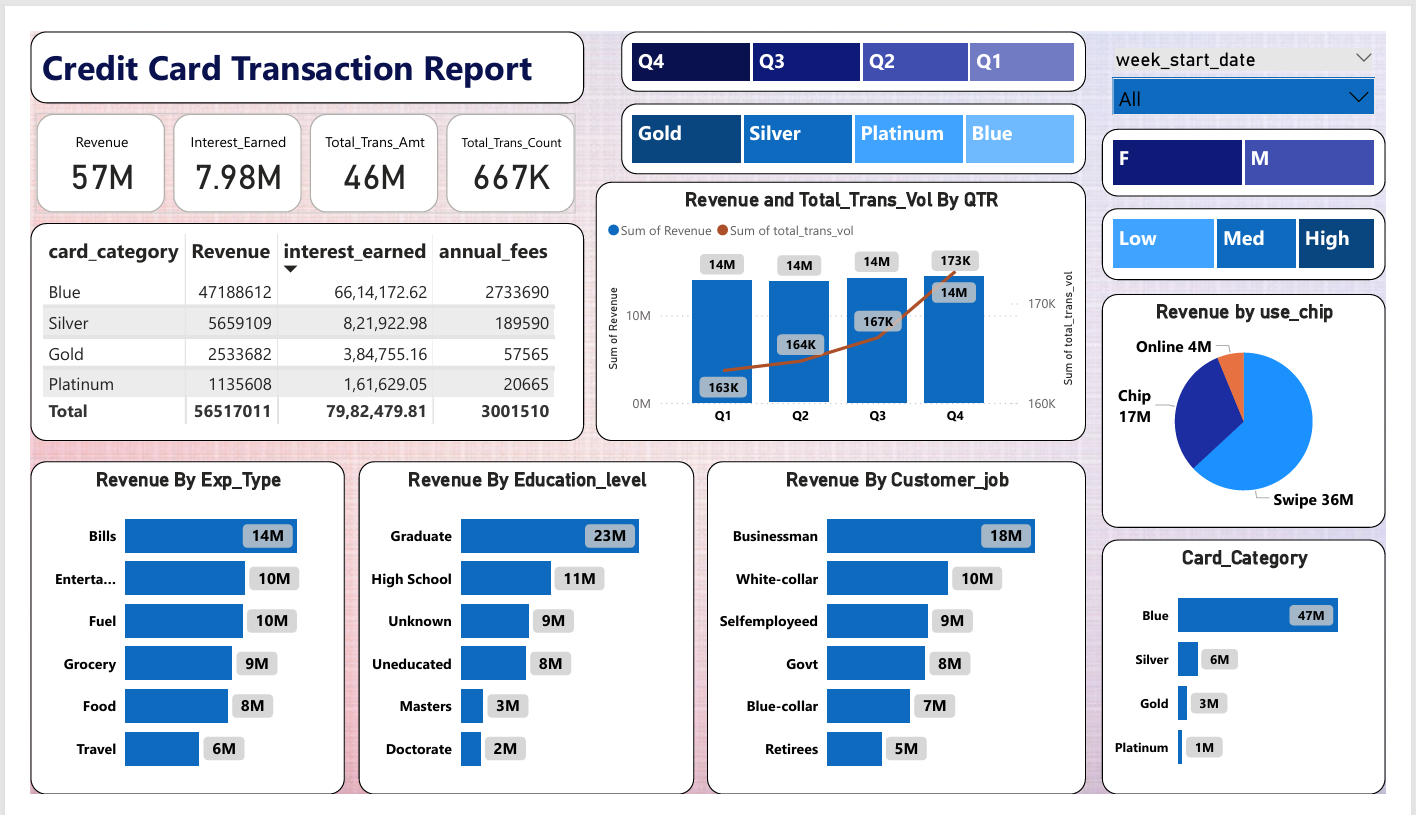

Layout of this report page (visuals, bound fields, positions):
{"tool":"powerbi","page":{"name":"CC TRANSACTION REPORT","canvas":[1280,720],"ordinal":2},"visuals":[{"type":"textbox","box":[0,0,523.3,68.4],"z":0},{"type":"lineStackedColumnComboChart","title":"Revenue and  Total_Trans_Vol By QTR","fields":{"Y":["Sum(public cc_detail.Revenue)"],"Category":["public cc_detail.qtr"],"Y2":["Sum(public cc_detail.total_trans_vol)"]},"box":[534.4,141.6,462.9,245],"z":1000},{"type":"barChart","title":" Revenue By Exp_Type","fields":{"Y":["Sum(public cc_detail.Revenue)"],"Category":["public cc_detail.exp_type"]},"box":[0,405.6,297.4,314.9],"z":2000},{"type":"barChart","title":"Revenue By Education_level","fields":{"Y":["Sum(public cc_detail.Revenue)"],"Category":["public cust_detail.education_level"]},"box":[310.2,405.6,316.5,314.9],"z":3000},{"type":"barChart","title":"Revenue By Customer_job","fields":{"Y":["Sum(public cc_detail.Revenue)"],"Category":["public cust_detail.customer_job"]},"box":[639.4,405.6,357.9,314.9],"z":4000},{"type":"barChart","title":"Card_Category","fields":{"Y":["Sum(public cc_detail.Revenue)"],"Category":["public cc_detail.card_category"]},"box":[1011.6,480.4,268.8,240.2],"z":5000},{"type":"pieChart","title":"Revenue by use_chip","fields":{"Category":["public cc_detail.use_chip"],"Y":["Sum(public cc_detail.Revenue)"]},"box":[1011.6,248.1,268.8,221.1],"z":6000},{"type":"tableEx","fields":{"Values":["public cc_detail.card_category","Sum(public cc_detail.Revenue)","Sum(public cc_detail.interest_earned)","Sum(public cc_detail.annual_fees)"]},"box":[0,181.3,523.3,205.2],"z":7000},{"type":"slicer","fields":{"Values":["public cc_detail.week_start_date"]},"box":[1011.6,11.1,268.8,81.1],"z":8000},{"type":"treemap","fields":{"Group":["public cust_detail.gender"],"Values":["Avg(public cc_detail.client_num)"]},"box":[1011.6,92.3,268.8,63.6],"z":9000},{"type":"treemap","fields":{"Group":["public cust_detail.IncomeGroup"],"Values":["CountNonNull(public cc_detail.client_num)"]},"box":[1011.6,167,268.8,68.4],"z":10000},{"type":"treemap","fields":{"Values":["Avg(public cc_detail.client_num)"],"Group":["public cc_detail.qtr"]},"box":[558.3,0,439,57.3],"z":11000},{"type":"treemap","fields":{"Group":["public cc_detail.card_category"],"Values":["Min(public cc_detail.client_num)"]},"box":[558.3,68.4,439,66.8],"z":12000},{"type":"cardVisual","fields":{"Data":["Sum(public cc_detail.Revenue)","Sum(public cc_detail.interest_earned)","Sum(public cc_detail.total_trans_amt)","Sum(public cc_detail.total_trans_vol)"]},"box":[0,71.6,523.3,105],"z":13000}]}

Visuals, with their boxes in screenshot pixels (x1, y1, x2, y2), scaled from the page's 1280x720 canvas onto the 1416x815 screenshot:
textbox: bbox(0, 0, 579, 77)
"Revenue and  Total_Trans_Vol By QTR" lineStackedColumnComboChart: bbox(591, 160, 1103, 438)
" Revenue By Exp_Type" barChart: bbox(0, 459, 329, 814)
"Revenue By Education_level" barChart: bbox(343, 459, 693, 814)
"Revenue By Customer_job" barChart: bbox(707, 459, 1103, 814)
"Card_Category" barChart: bbox(1119, 544, 1415, 814)
"Revenue by use_chip" pieChart: bbox(1119, 281, 1415, 531)
tableEx - public cc_detail.card_category x Sum(public cc_detail.Revenue): bbox(0, 205, 579, 437)
slicer - public cc_detail.week_start_date: bbox(1119, 13, 1415, 104)
treemap - public cust_detail.gender x Avg(public cc_detail.client_num): bbox(1119, 104, 1415, 176)
treemap - public cust_detail.IncomeGroup x CountNonNull(public cc_detail.client_num): bbox(1119, 189, 1415, 266)
treemap - Avg(public cc_detail.client_num) x public cc_detail.qtr: bbox(618, 0, 1103, 65)
treemap - public cc_detail.card_category x Min(public cc_detail.client_num): bbox(618, 77, 1103, 153)
cardVisual - Sum(public cc_detail.Revenue) x Sum(public cc_detail.interest_earned): bbox(0, 81, 579, 200)
